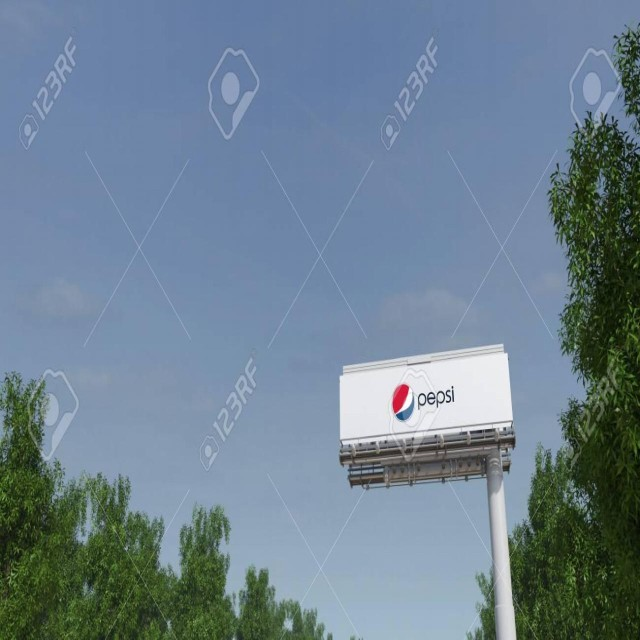pepsi: (391, 383, 415, 425)
